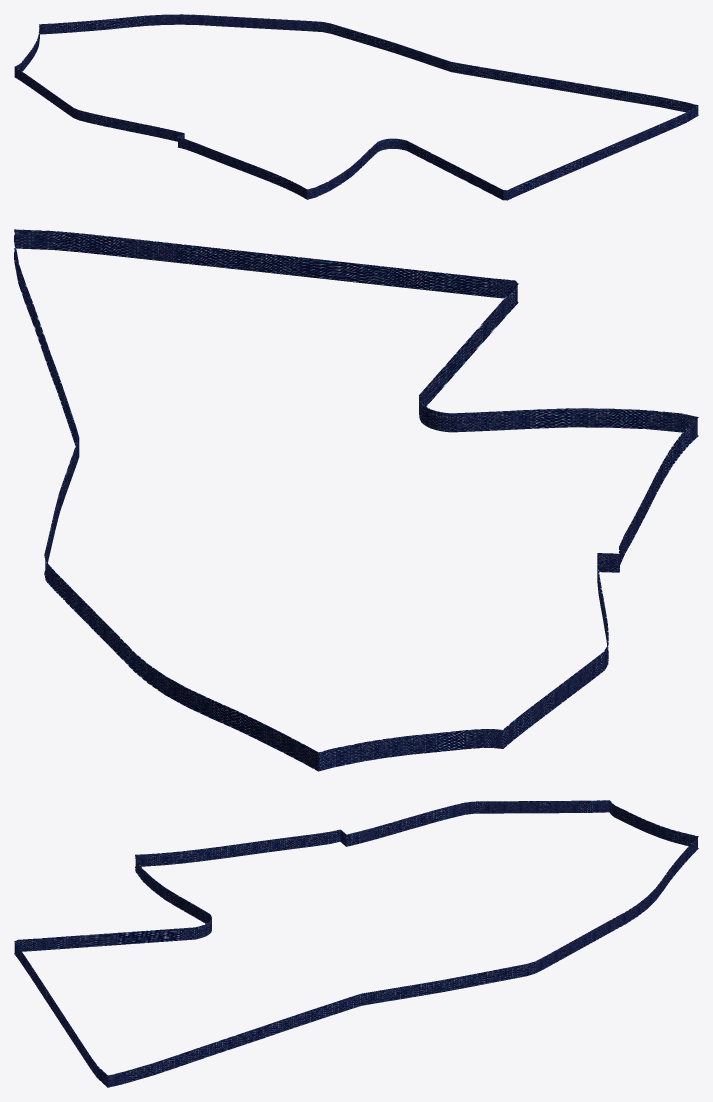
The model's file is Boundary.fbx.
The picture shows the model from 3 angles, top to bottom: view 1: azimuth 30°, elevation 25°; view 2: azimuth 150°, elevation 25°; view 3: azimuth 270°, elevation 25°; orthographic projection. The views are drawn at different scales.
Visible parts, largest first — view 1: Boundary; view 2: Boundary; view 3: Boundary.
Part boxes in pixels (bbox=[...]): Boundary: bbox=[14, 14, 698, 200]; Boundary: bbox=[14, 229, 698, 771]; Boundary: bbox=[14, 800, 698, 1087].
Bounding box in the file's own units: 322 × 6.7 × 338.
